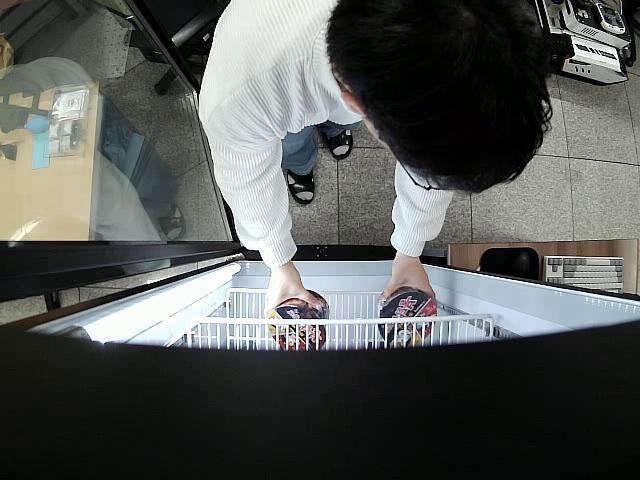07_buldak_L: (264, 291, 330, 350), (374, 288, 440, 346)
